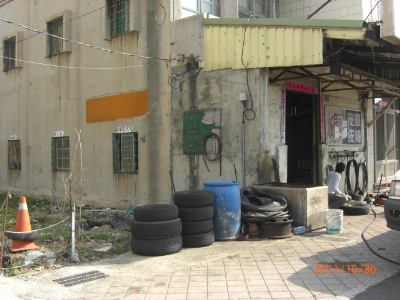bucket: (203, 179, 243, 241), (323, 205, 343, 236)
tire: (127, 233, 184, 256), (130, 221, 183, 239), (172, 187, 214, 207), (134, 204, 178, 220), (181, 232, 219, 249), (177, 205, 216, 220), (182, 218, 216, 234), (340, 201, 372, 215)
